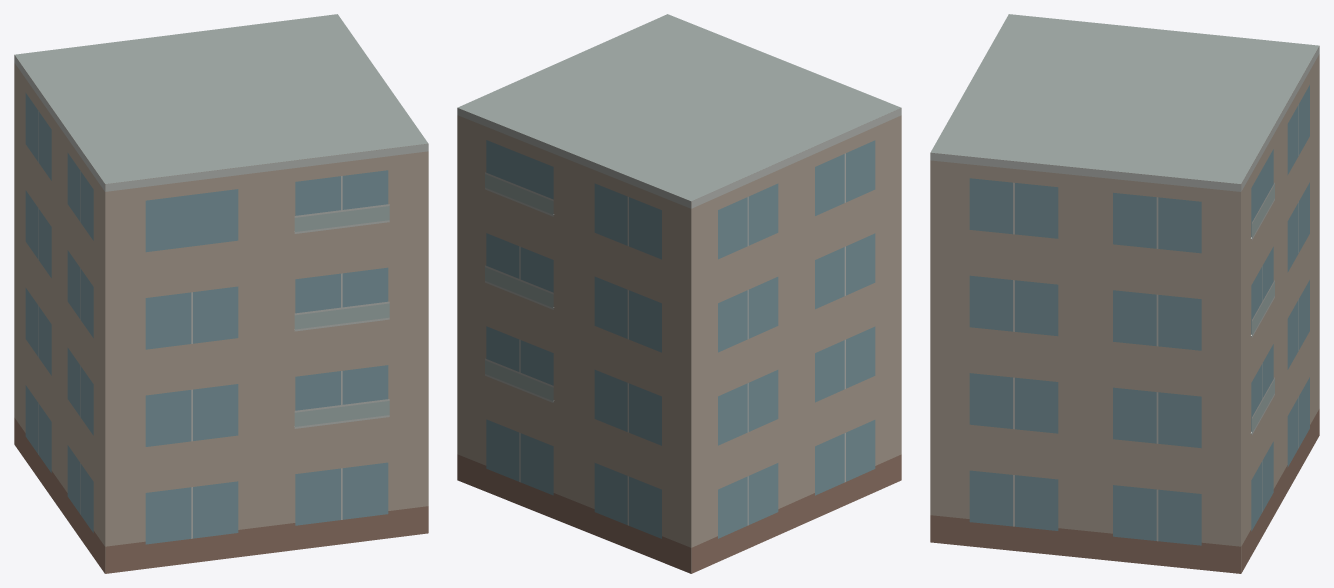
File: residential-07d43d31-ac2c-4e42-a9a7-12249db9d60c.glb
The picture shows the model from 3 angles, left to right: view 1: azimuth 30°, elevation 25°; view 2: azimuth 150°, elevation 25°; view 3: azimuth 270°, elevation 25°; orthographic projection. The views are drawn at different scales.
Visible parts, largest first — view 1: residential-07d43d31-ac2c-4e42-a9a7-12249db9d60c.tmp; view 2: residential-07d43d31-ac2c-4e42-a9a7-12249db9d60c.tmp; view 3: residential-07d43d31-ac2c-4e42-a9a7-12249db9d60c.tmp.
Boxes of the visible parts, x1=… form: residential-07d43d31-ac2c-4e42-a9a7-12249db9d60c.tmp: x1=14, y1=14, x2=428, y2=573; residential-07d43d31-ac2c-4e42-a9a7-12249db9d60c.tmp: x1=457, y1=14, x2=901, y2=573; residential-07d43d31-ac2c-4e42-a9a7-12249db9d60c.tmp: x1=930, y1=14, x2=1319, y2=573.
Size of the model in its own units: 11.43 by 12.2 by 11.05.
